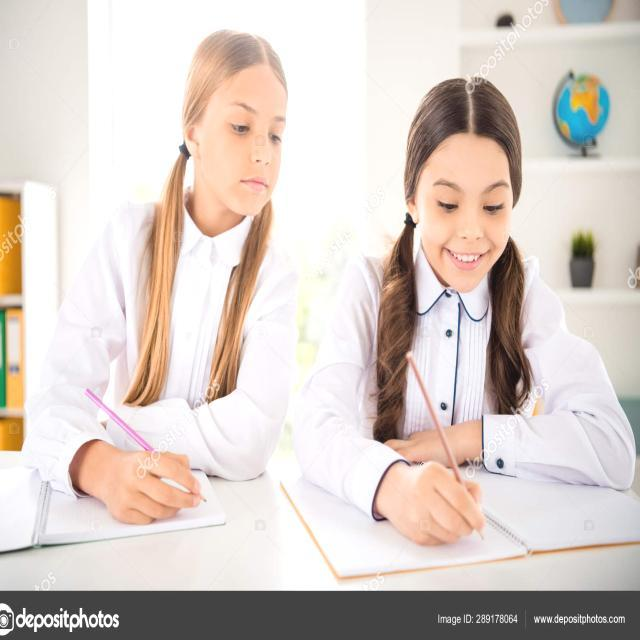cheating: (25, 23, 304, 543)
good: (317, 73, 640, 571)
